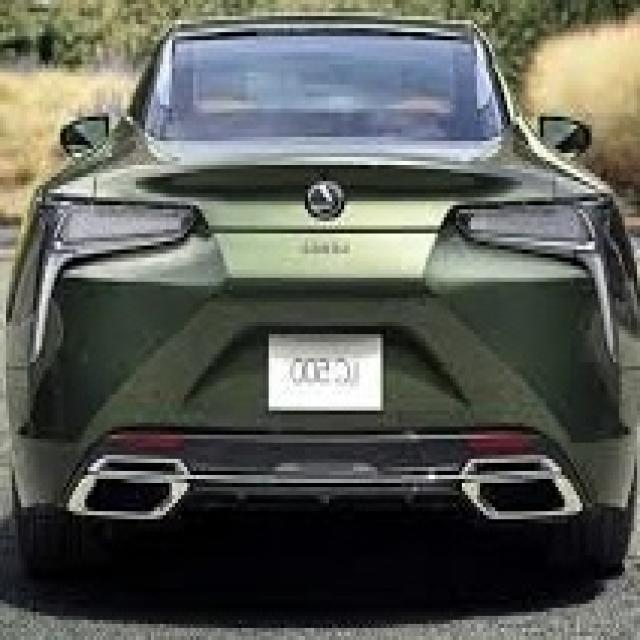green: (0, 24, 634, 556)
